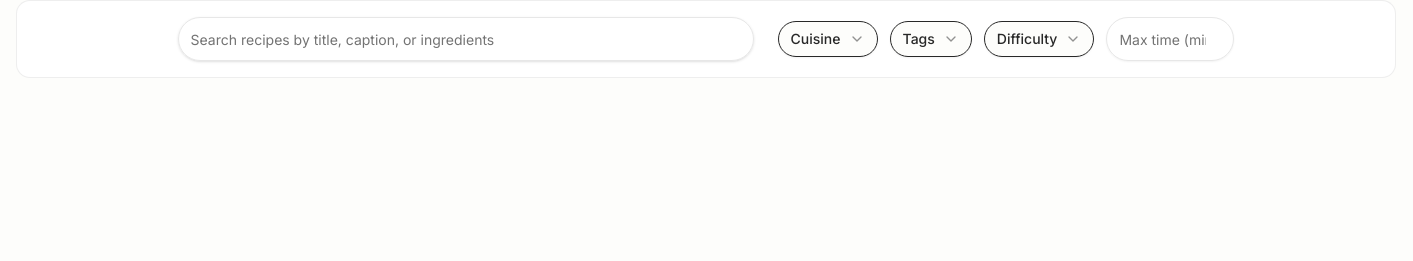
FilterBar › cuisine filter › should display count of selected cuisines
The width and height of the screenshot is (1413, 261).
Click the button with test id "cuisine-filter-trigger" at (828, 39), box [778,21,878,57]
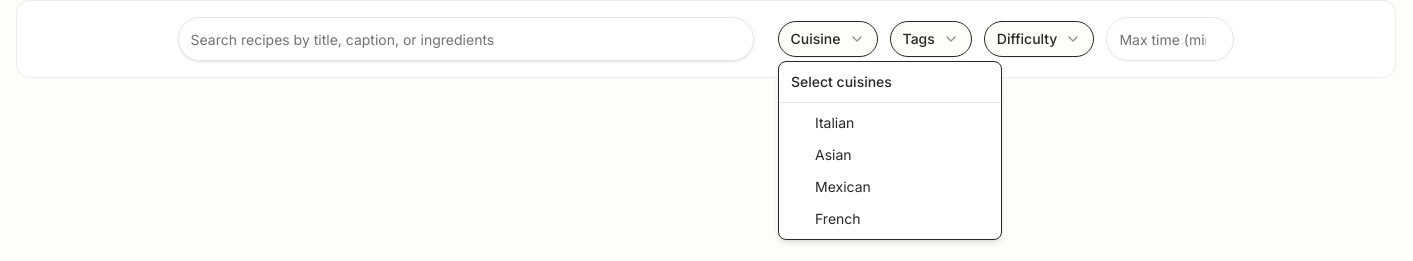
Click the menu item with test id "cuisine-option-Italian" at (835, 122), box [815,114,854,131]
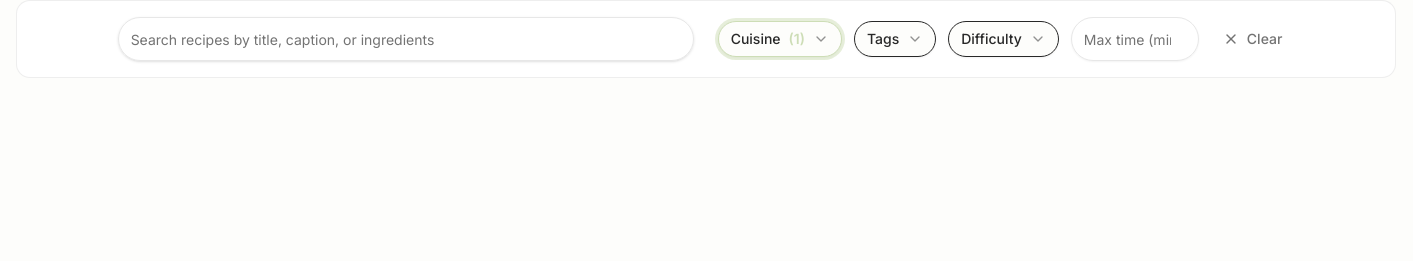
Now the button with test id "cuisine-filter-trigger" shows "(1)"
# Need to reopen to select another
Click the button with test id "cuisine-filter-trigger" at (780, 39), box [718,21,842,57]
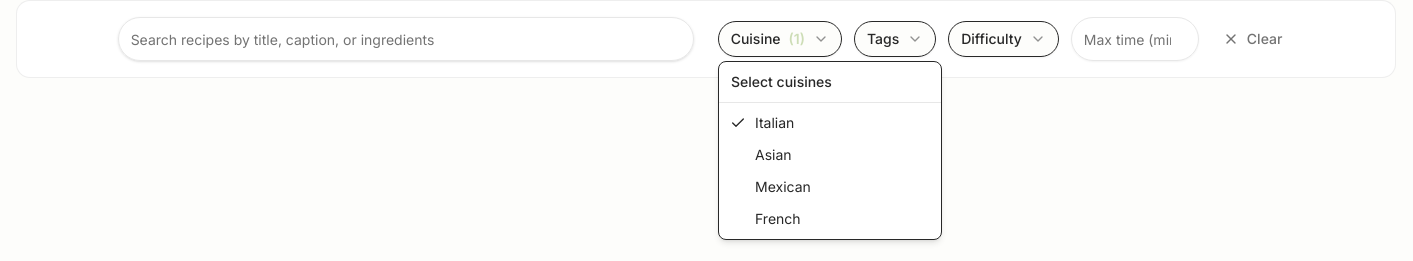
Click the menu item with test id "cuisine-option-Asian" at (773, 154), box [755,146,792,163]
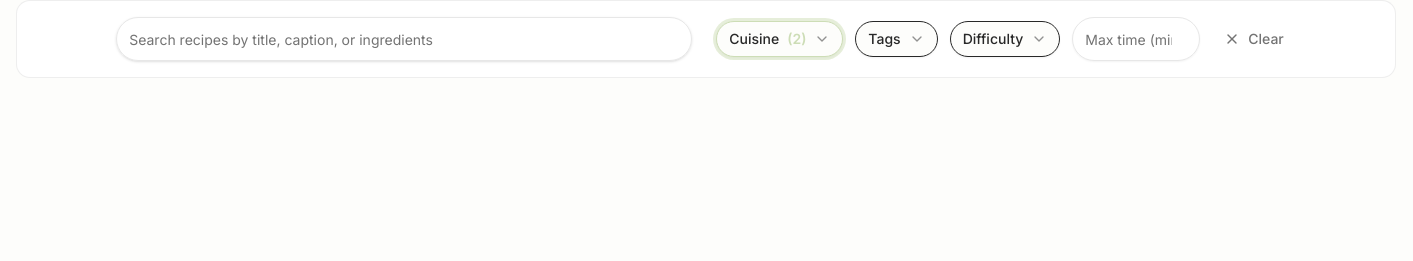
Now the button with test id "cuisine-filter-trigger" shows "(2)", box [716,21,843,57]
